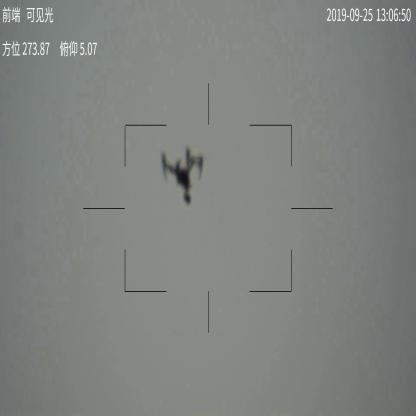uav: (154, 152, 206, 210)
